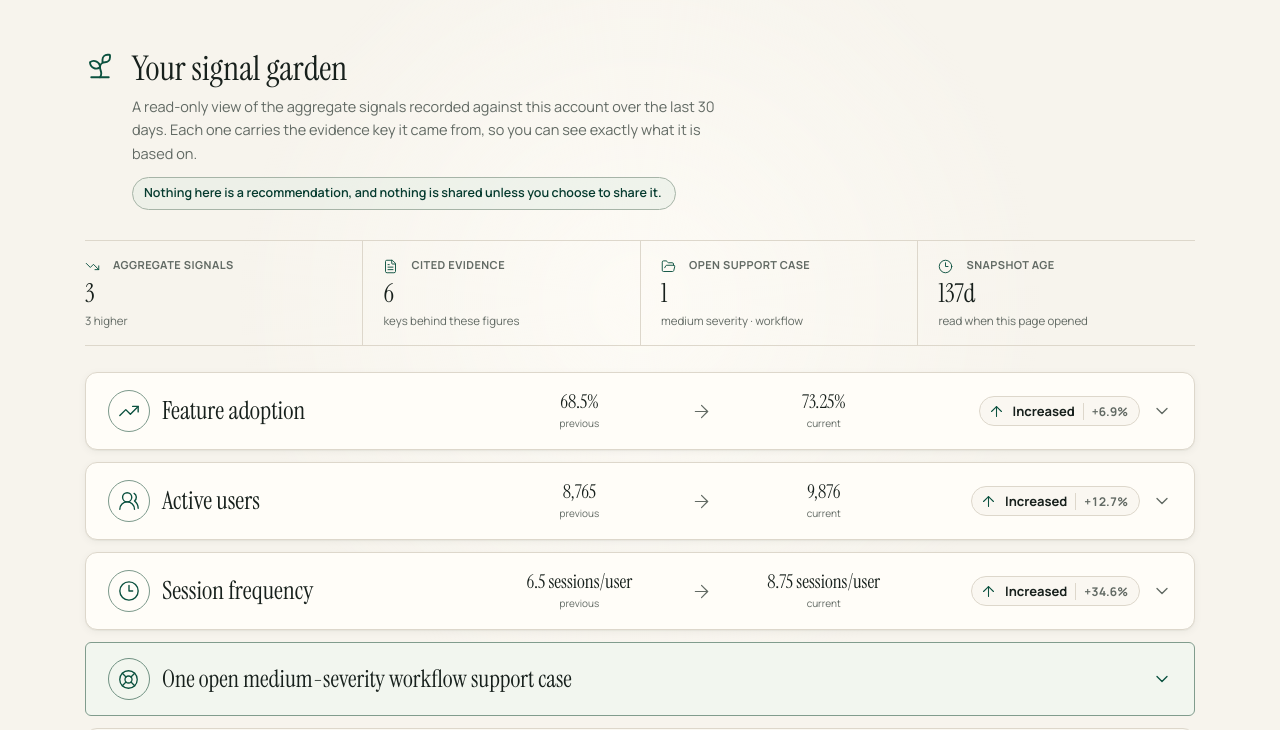
Test: Signal Garden canvas › keeps only one signal expanded at a time
Click the button that starts with "Feature adoption": (129, 411) [86,373,1194,449]
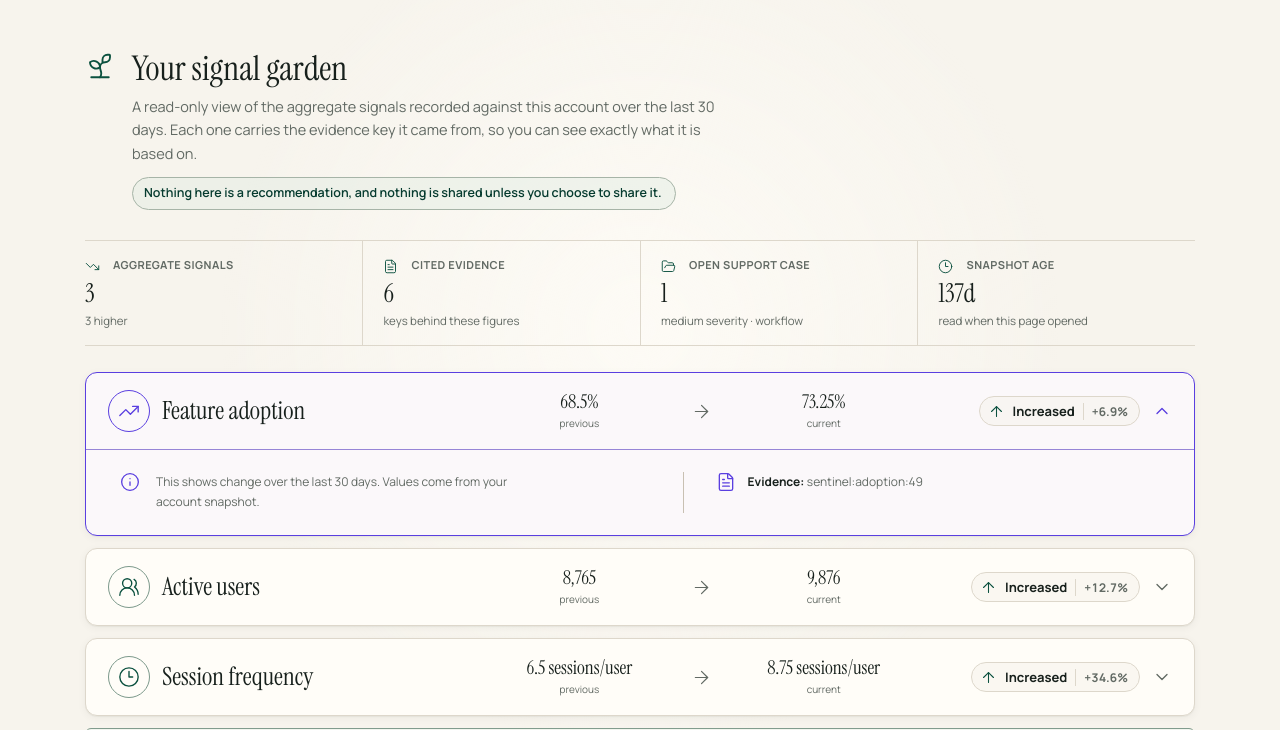
Check: the button that starts with "Feature adoption" is expanded, box [86,373,1194,449]
Click the button "Active users 8,765 previous 9,876 current Increased +12.7%": (129, 587) [86,549,1194,625]
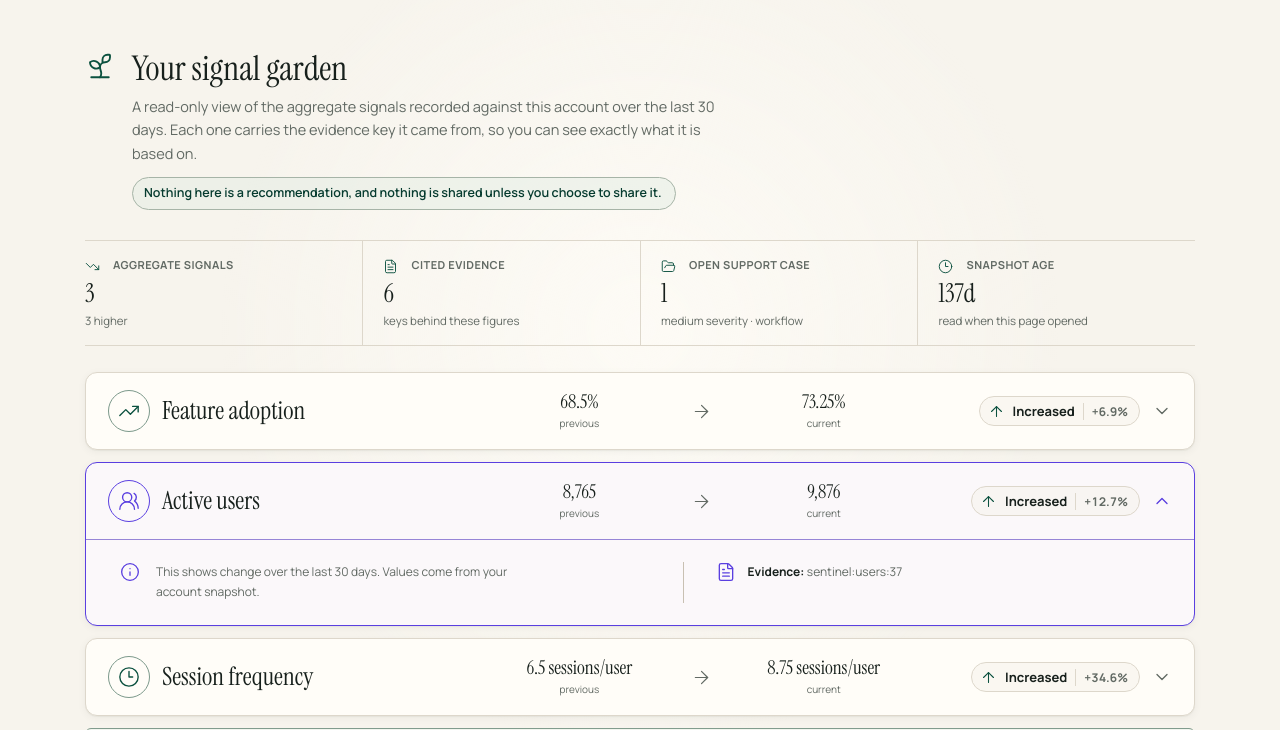
Check: the button that starts with "Feature adoption" is collapsed, box [86,373,1194,449]
Check: the button "Active users 8,765 previous 9,876 current Increased +12.7%" is expanded, box [86,463,1194,539]
